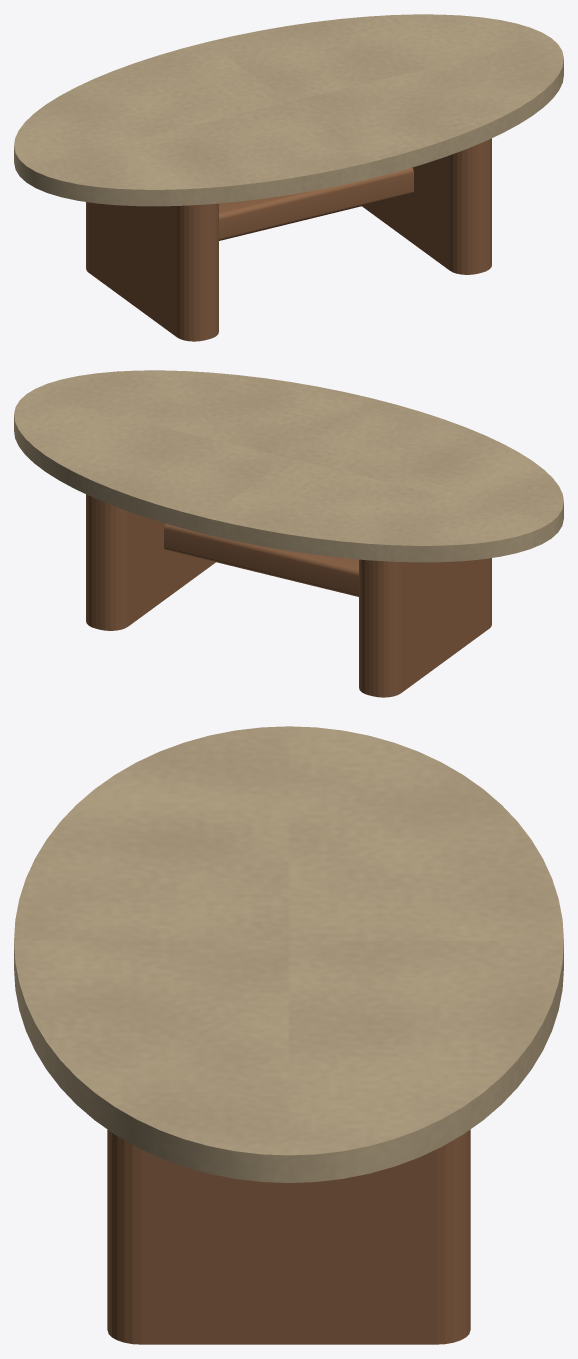
Rendered from designed-coffee-travertine.glb.
3 views of the same model, one above another, from view 1: azimuth 30°, elevation 25°; view 2: azimuth 150°, elevation 25°; view 3: azimuth 270°, elevation 25° (orthographic). The views are drawn at different scales.
Visible parts, largest first — view 1: catalog_surface_RealismUV; view 2: catalog_surface_RealismUV; view 3: catalog_surface_RealismUV.
Boxes of the visible parts, <box> form: catalog_surface_RealismUV: <box>14,14,563,341</box>; catalog_surface_RealismUV: <box>14,370,563,697</box>; catalog_surface_RealismUV: <box>14,726,563,1344</box>.
Bounding box in the file's own units: 1.2 × 0.36 × 0.65.
Materials: 3 (1 with a texture image).
